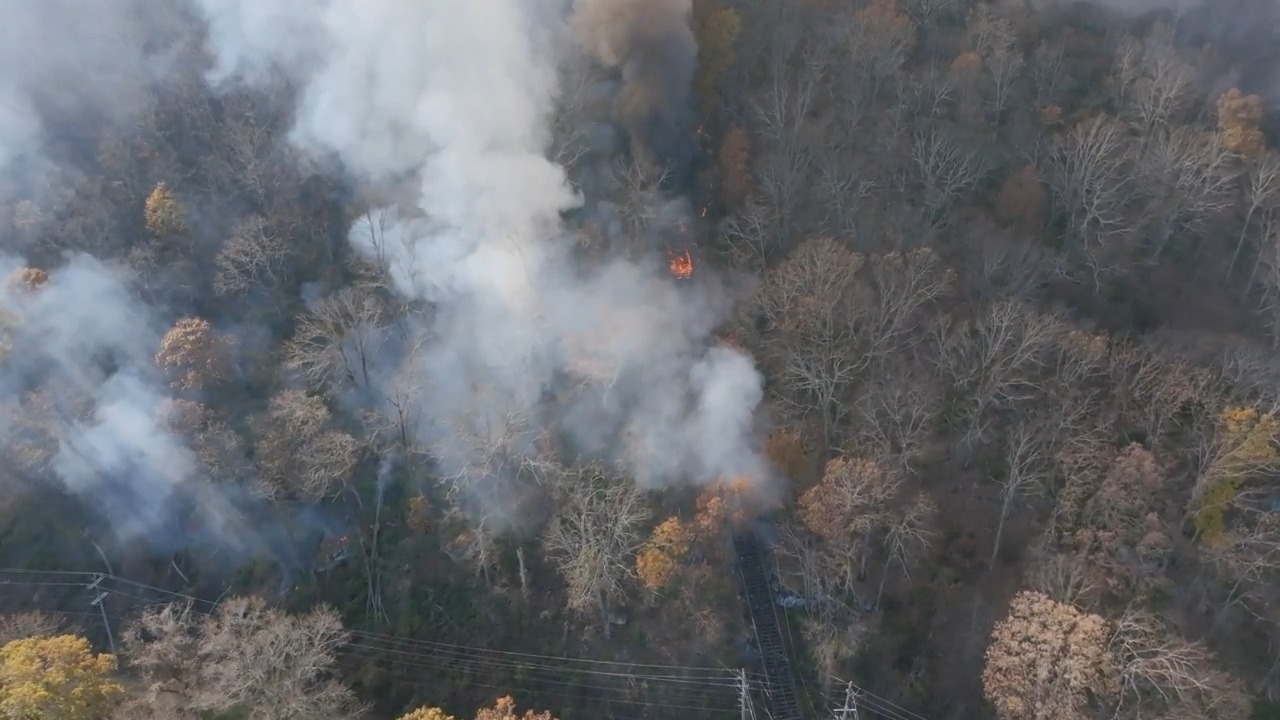fire: (669, 249, 693, 279), (699, 205, 708, 217)
smoke: (200, 0, 766, 485), (0, 254, 256, 551), (0, 0, 173, 177), (570, 0, 697, 181)
